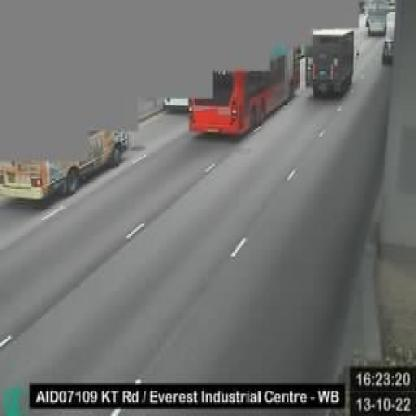Truck: (306, 28, 355, 98)
